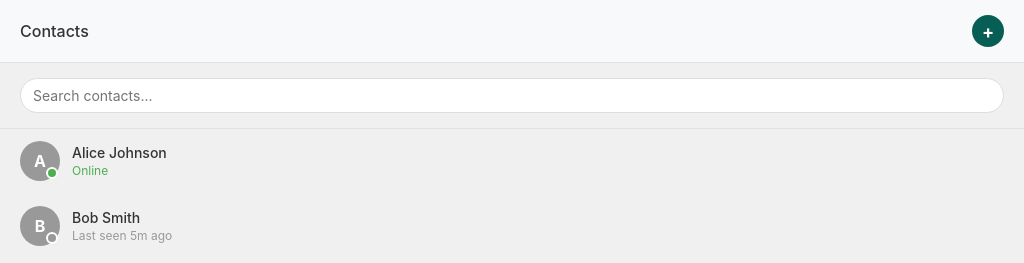
Test: ContactList Component › filters contacts based on search term
Type "Alice" into the field with placeholder "Search contacts..." at (512, 96), box [20,78,1004,113]
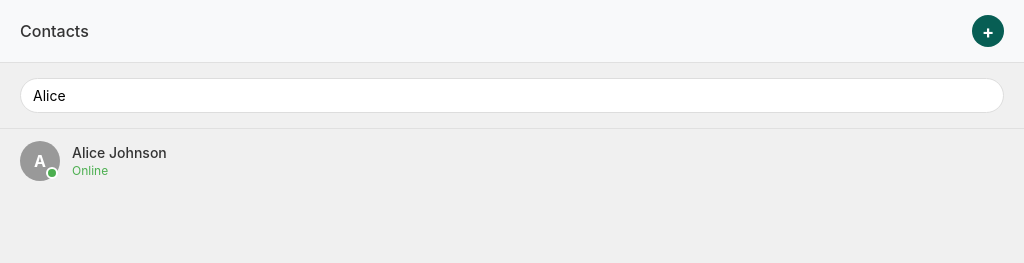
Expected: the text "Alice Johnson" is shown, [72,144,167,161]
Now the text "Bob Smith" is gone
